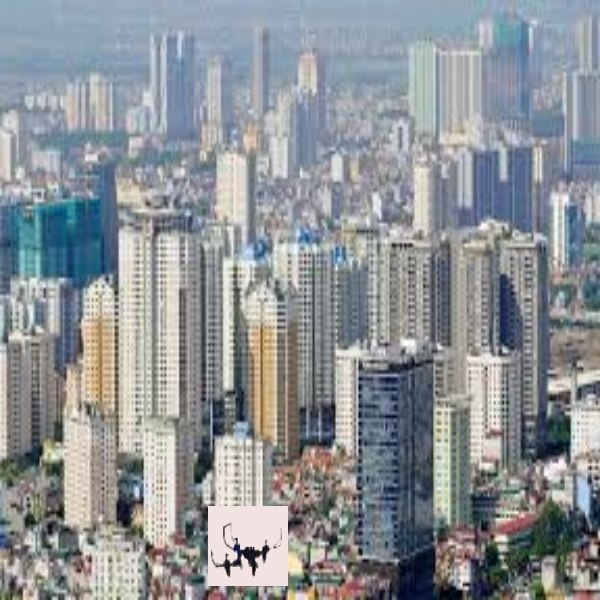drone: (209, 514, 288, 585)
